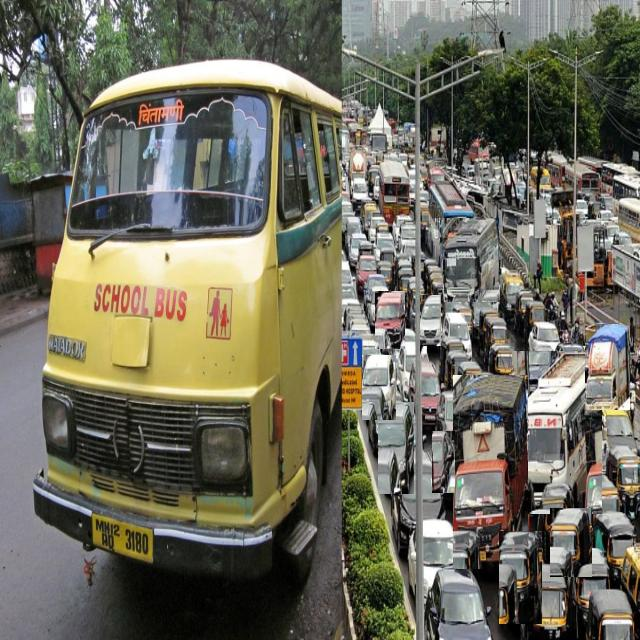autorickshaw: (499, 531, 542, 624), (568, 549, 610, 639), (521, 564, 566, 640), (594, 511, 635, 587), (550, 509, 592, 577), (538, 484, 572, 561), (606, 447, 640, 514), (580, 476, 620, 526)
bus: (34, 60, 341, 579), (512, 351, 602, 514), (444, 218, 499, 302)
car: (425, 569, 491, 640), (379, 403, 414, 494), (362, 355, 396, 420), (375, 291, 405, 349), (432, 431, 455, 493), (421, 360, 440, 430), (396, 342, 415, 400), (420, 295, 441, 346), (421, 346, 427, 359)
truck: (454, 375, 528, 569), (585, 325, 630, 410)
